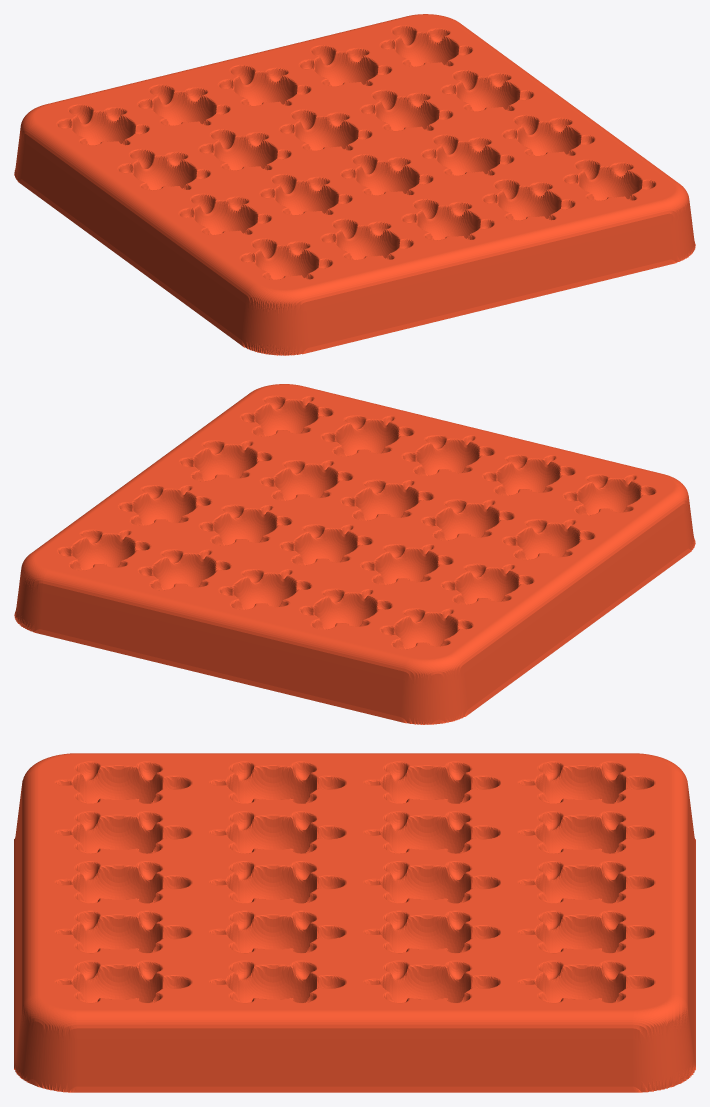
The model's file is mold.glb.
3 views of the same model, one above another, from view 1: azimuth 30°, elevation 25°; view 2: azimuth 150°, elevation 25°; view 3: azimuth 270°, elevation 25° (orthographic). The views are drawn at different scales.
Visible parts, largest first — view 1: geometry_0; view 2: geometry_0; view 3: geometry_0.
Boxes of the visible parts, x1,y1,x2,y2 form: geometry_0: (14, 14, 695, 355); geometry_0: (14, 384, 695, 724); geometry_0: (14, 753, 695, 1092).
Bounding box in the file's own units: 0.0932 × 0.0114 × 0.0972.
